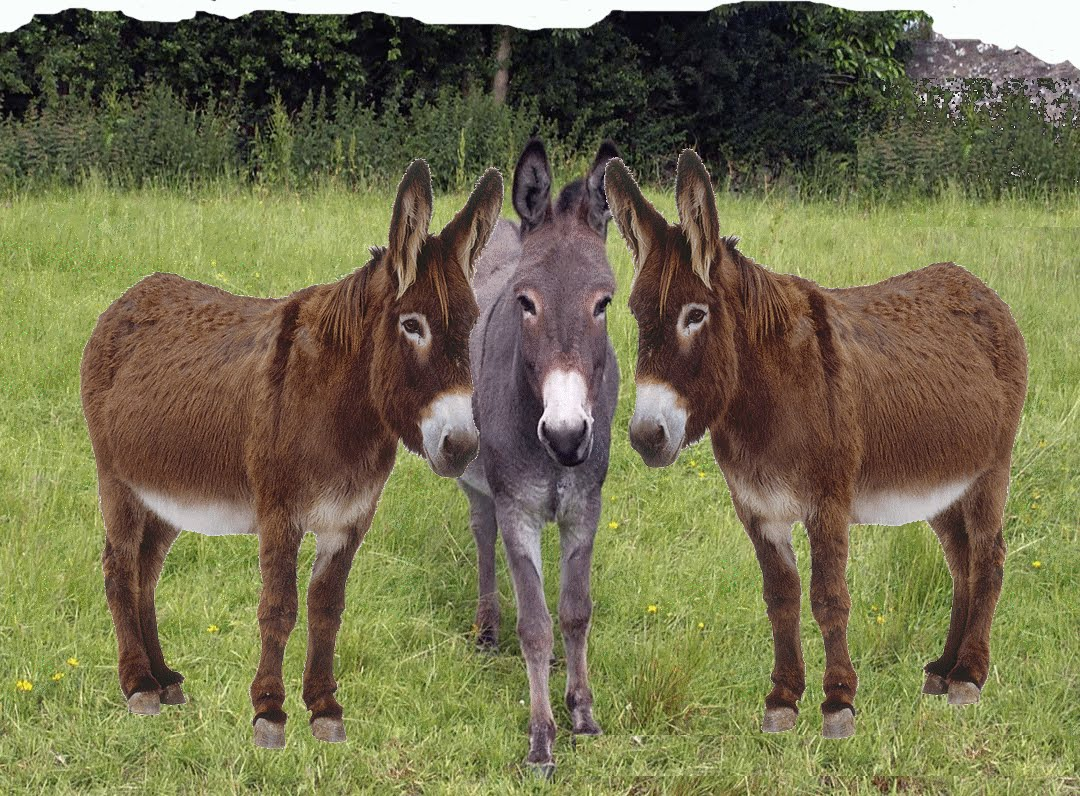donkey: (82, 156, 499, 751), (611, 161, 1028, 739), (456, 136, 633, 766)
